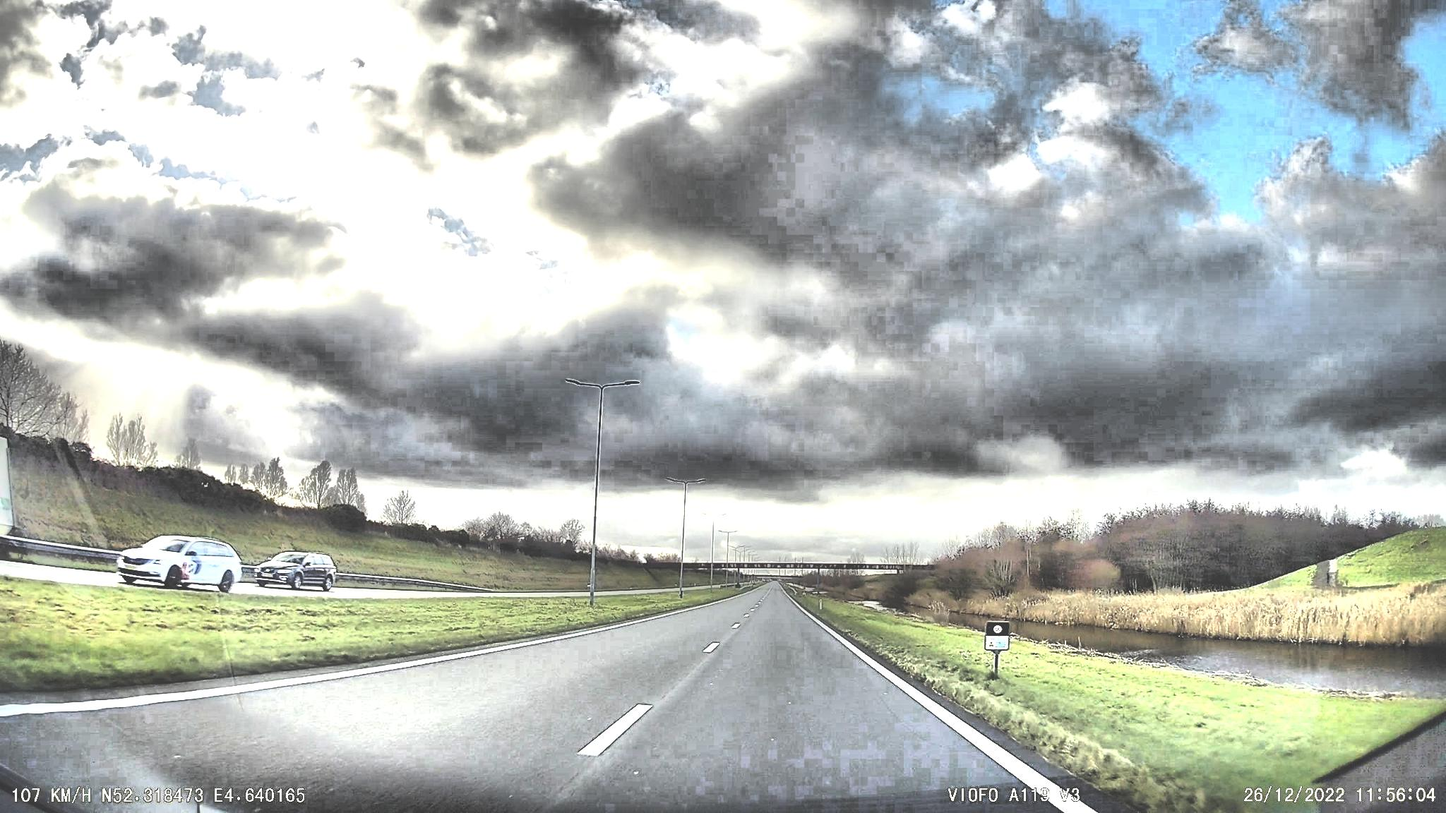Roads: (0, 584, 1113, 813)
